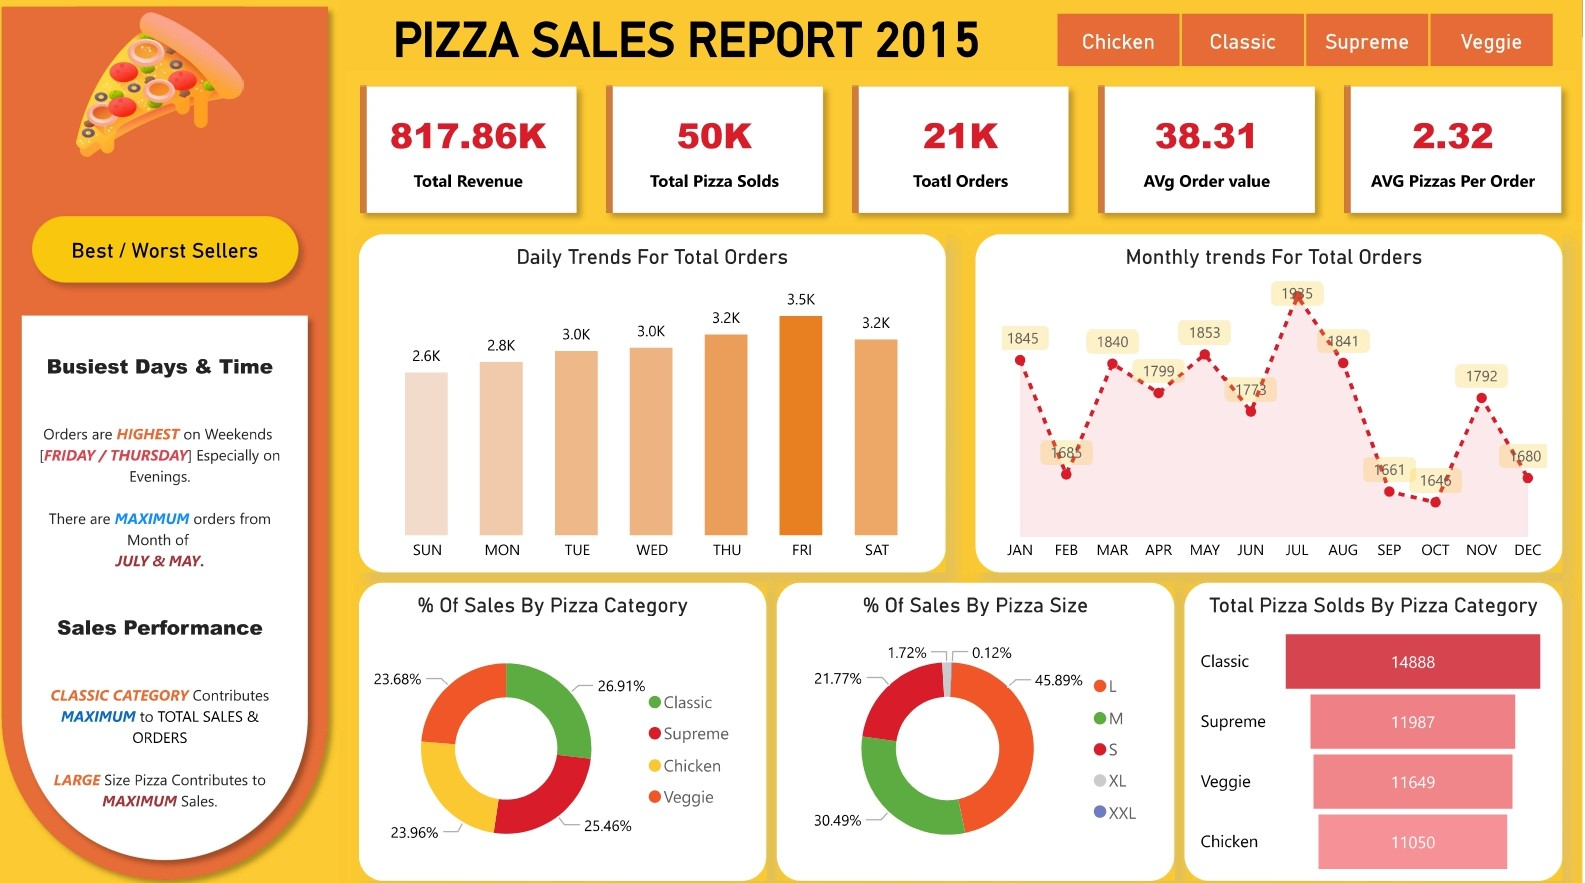

This screenshot's page, from the dashboard's own definition file:
{"tool":"powerbi","page":{"name":"Home","canvas":[1280,720],"ordinal":0},"visuals":[{"type":"cardVisual","fields":{"Data":["pizza_db pizza_sales.TotalRevenue","pizza_db pizza_sales.Total Pizza Solds","pizza_db pizza_sales.Toatl Orders","pizza_db pizza_sales.AVg Order value","pizza_db pizza_sales.AVG Pizzas Per Order"]},"box":[280,56,1000,136],"z":0},{"type":"shape","box":[0,0,280,720],"z":1000},{"type":"shape","box":[296,192,472,272],"z":2000},{"type":"image","box":[56,0,160,144],"z":3000},{"type":"columnChart","title":"Daily Trends For Total Orders","fields":{"Category":["pizza_db pizza_sales.order_day"],"Y":["pizza_db pizza_sales.Toatl Orders"]},"box":[304,200,456,264],"z":4000},{"type":"shape","box":[792,192,472,272],"z":5000},{"type":"areaChart","title":"Monthly trends For Total Orders","fields":{"Category":["pizza_db pizza_sales.order_month"],"Y":["pizza_db pizza_sales.Toatl Orders"]},"box":[808,200,448,264],"z":6000},{"type":"shape","box":[296,472,328,240],"z":7000},{"type":"donutChart","title":"% Of Sales By Pizza Category","fields":{"Category":["pizza_db pizza_sales.pizza_category"],"Y":["pizza_db pizza_sales.TotalRevenue"]},"box":[296,480,312,232],"z":8000},{"type":"shape","box":[632,472,320,240],"z":9000},{"type":"shape","box":[960,472,304,240],"z":10000},{"type":"donutChart","title":"% Of Sales By Pizza Size","fields":{"Y":["pizza_db pizza_sales.TotalRevenue"],"Category":["pizza_db pizza_sales.pizza_size"]},"box":[648,480,288,232],"z":11000},{"type":"funnel","title":"Total Pizza Solds By Pizza Category","fields":{"Category":["pizza_db pizza_sales.pizza_category"],"Y":["pizza_db pizza_sales.Total Pizza Solds"]},"box":[968,480,288,232],"z":12000},{"type":"shape","box":[16,248,248,456],"z":12500},{"type":"textbox","box":[32,264,208,408],"z":13000},{"type":"slicer","fields":{"Values":["pizza_db pizza_sales.pizza_category"]},"box":[832,8,448,56],"z":15000},{"type":"pageNavigator","box":[24,168,232,72],"z":16000},{"type":"textbox","box":[296,8,528,56],"z":17000}]}

Visuals, with their boxes in screenshot pixels (x1, y1, x2, y2), scaled from the page's 1280x720 canvas onto the 1585x883 screenshot:
cardVisual - pizza_db pizza_sales.TotalRevenue x pizza_db pizza_sales.Total Pizza Solds: detection(347, 69, 1584, 235)
shape: detection(0, 0, 347, 882)
shape: detection(367, 235, 951, 569)
image: detection(69, 0, 267, 177)
"Daily Trends For Total Orders" columnChart: detection(376, 245, 941, 569)
shape: detection(981, 235, 1565, 569)
"Monthly trends For Total Orders" areaChart: detection(1001, 245, 1555, 569)
shape: detection(367, 579, 773, 873)
"% Of Sales By Pizza Category" donutChart: detection(367, 589, 753, 873)
shape: detection(783, 579, 1179, 873)
shape: detection(1189, 579, 1565, 873)
"% Of Sales By Pizza Size" donutChart: detection(802, 589, 1159, 873)
"Total Pizza Solds By Pizza Category" funnel: detection(1199, 589, 1555, 873)
shape: detection(20, 304, 327, 863)
textbox: detection(40, 324, 297, 824)
slicer - pizza_db pizza_sales.pizza_category: detection(1030, 10, 1584, 78)
pageNavigator: detection(30, 206, 317, 294)
textbox: detection(367, 10, 1020, 78)
